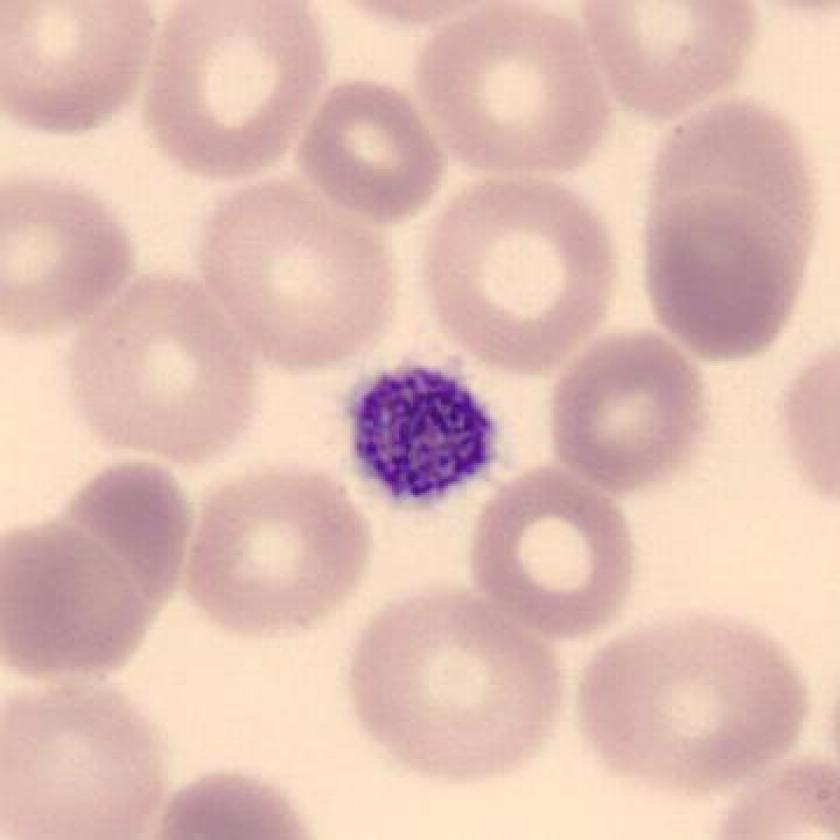platelets: (342, 355, 507, 526)
